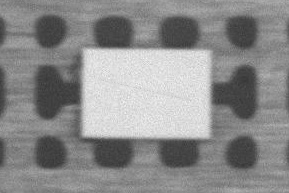DIE_CRACK: (148, 53, 286, 67)
